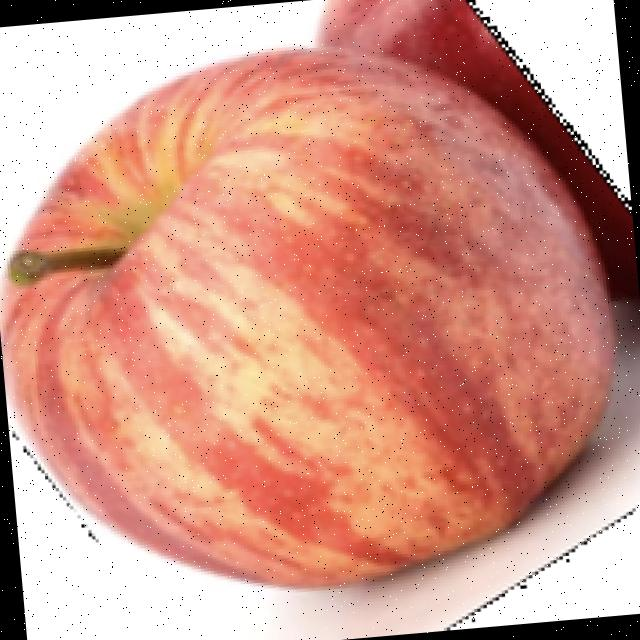apple: (0, 0, 640, 628)
